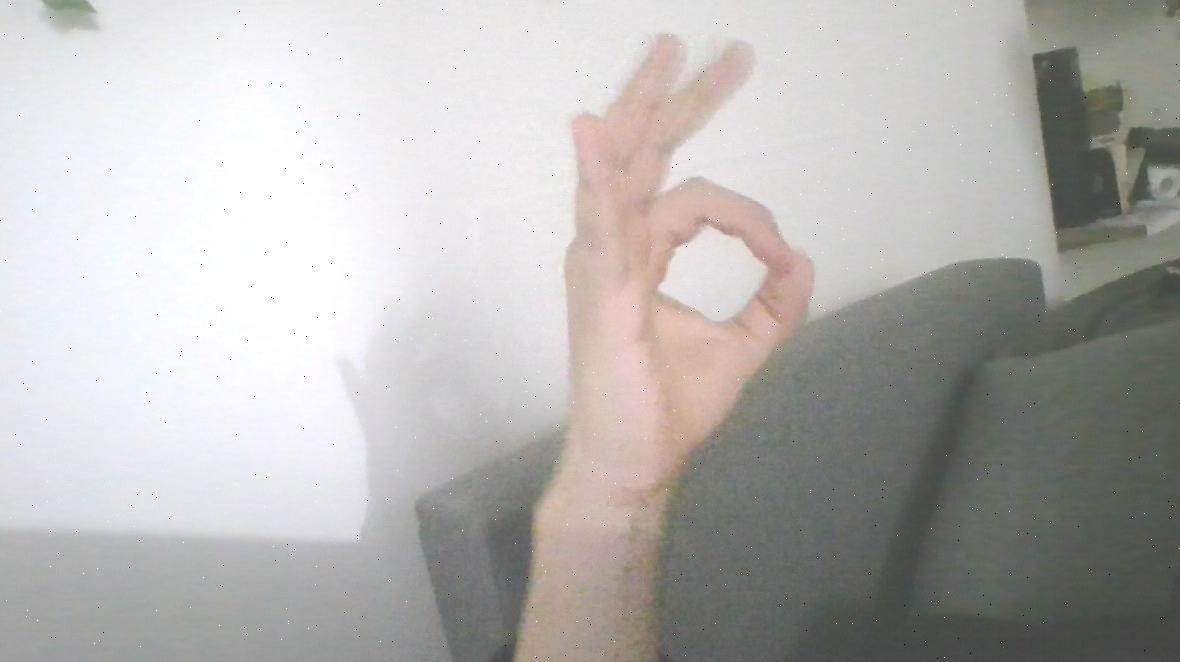zero: (536, 13, 847, 505)
